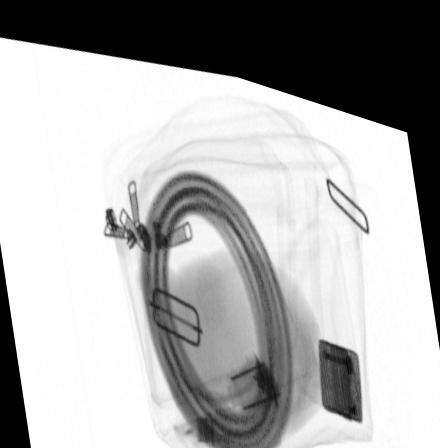Lighter: (316, 315, 363, 398)
